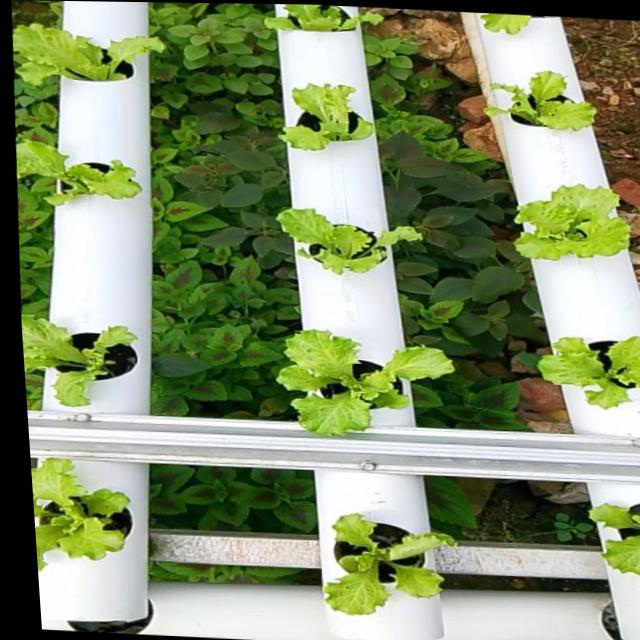Baby: (274, 328, 454, 433), (321, 512, 456, 615), (31, 458, 128, 568), (22, 313, 134, 406), (274, 204, 421, 271), (12, 18, 160, 81), (514, 180, 633, 257), (16, 134, 138, 202), (538, 333, 640, 407), (485, 65, 599, 126), (277, 79, 374, 146), (591, 502, 640, 574)
